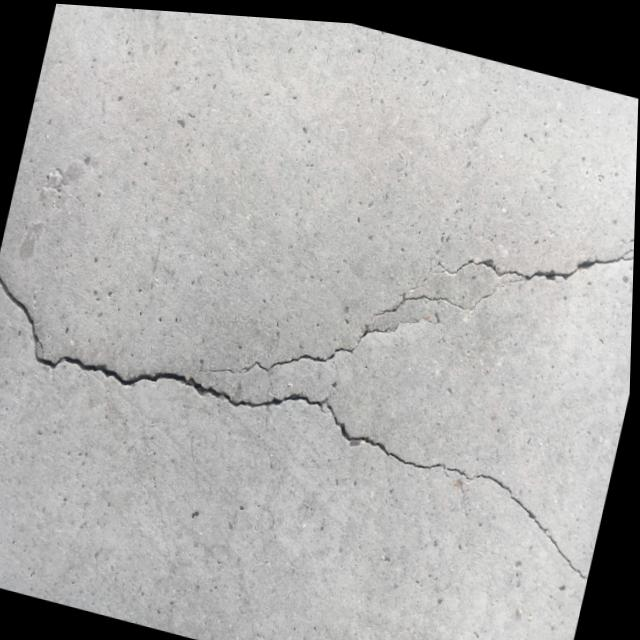Crack: (206, 222, 496, 437), (327, 417, 611, 581), (38, 322, 371, 444), (432, 180, 636, 325), (0, 261, 76, 378)
